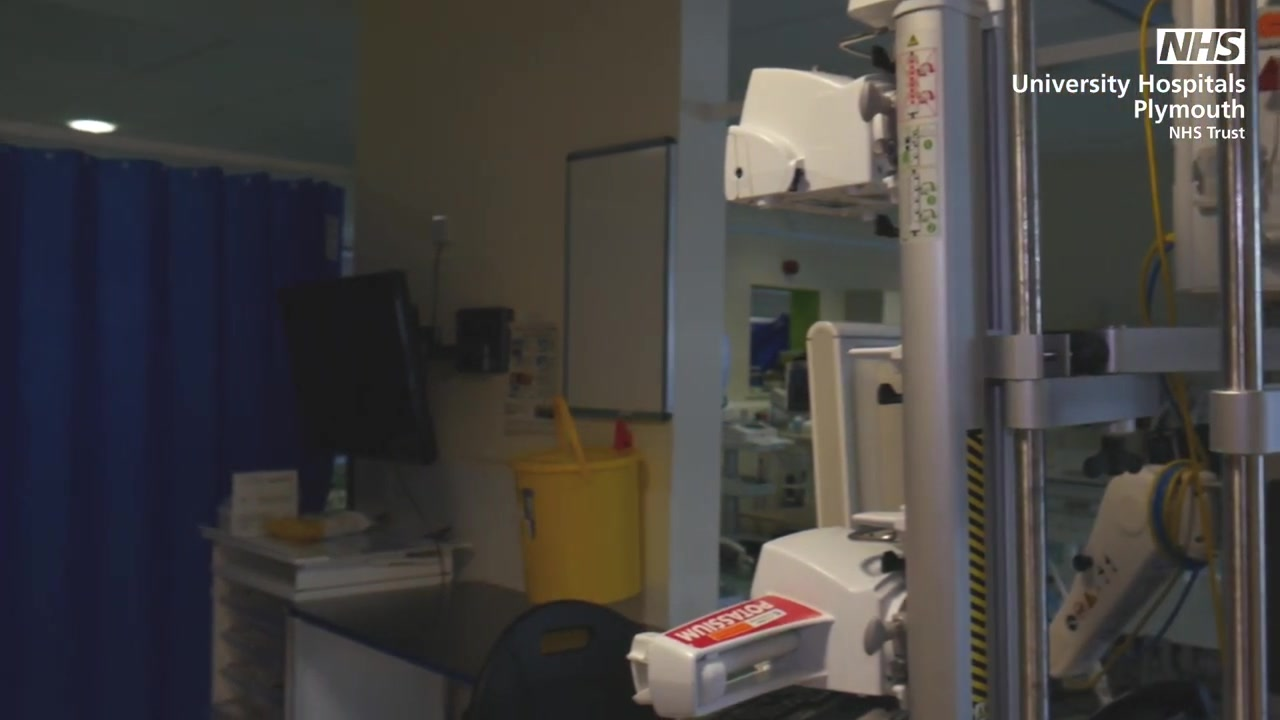bedside_monitor: (278, 270, 440, 470)
bedside_table: (187, 518, 467, 720)
chair: (465, 596, 669, 720)
countertop: (282, 583, 655, 685)
curtain: (1, 141, 352, 720)
waste_bin: (513, 444, 648, 602)
